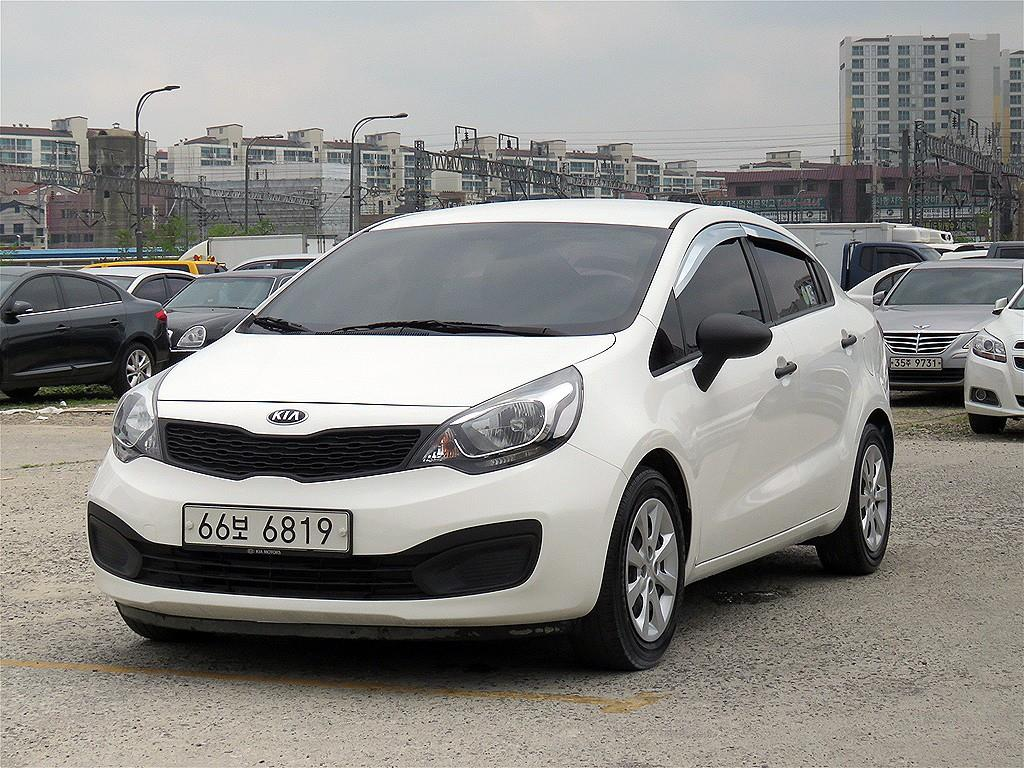plate: (184, 507, 348, 551)
